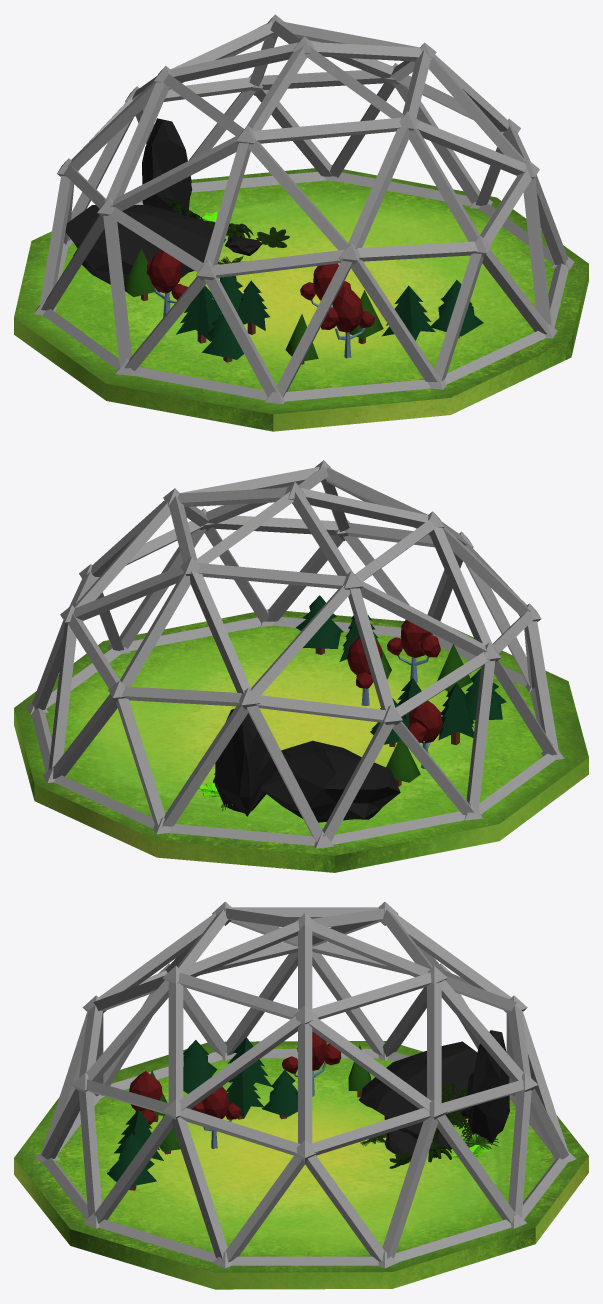
The model's file is Cage_0.fbx.
3 views of the same model, one above another, from view 1: azimuth 30°, elevation 25°; view 2: azimuth 150°, elevation 25°; view 3: azimuth 270°, elevation 25° (orthographic). The views are drawn at different scales.
Visible parts, largest first — view 1: Cage_0; view 2: Cage_0; view 3: Cage_0.
Part boxes in pixels (x1,y1,x2,y2): Cage_0: [14, 14, 588, 431]; Cage_0: [14, 460, 588, 872]; Cage_0: [14, 901, 588, 1289].
Size of the model in its own units: 41.39 by 21.9 by 43.4.
